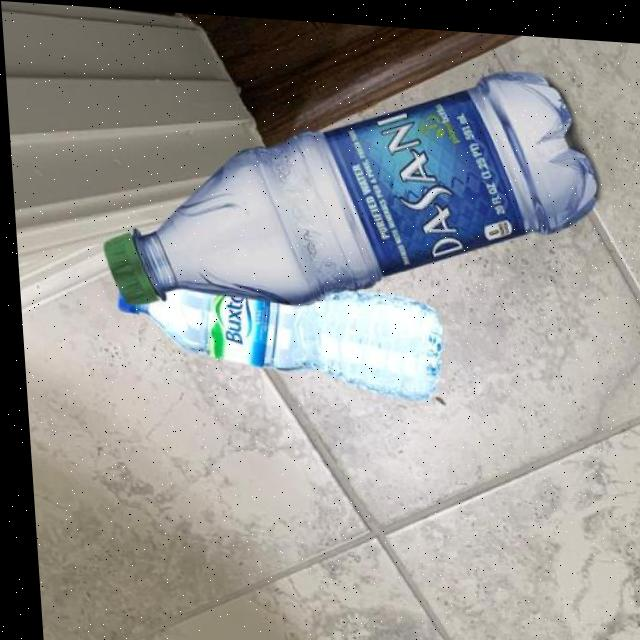bottle: (89, 41, 604, 332), (110, 270, 444, 400)
